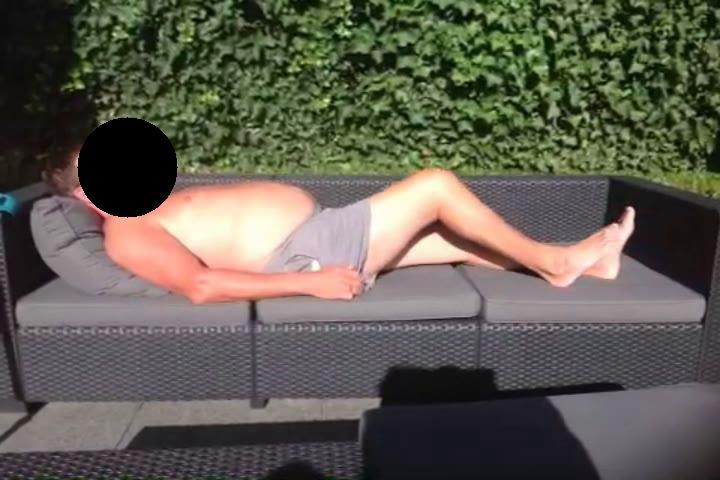lower_body: (302, 168, 639, 291)
